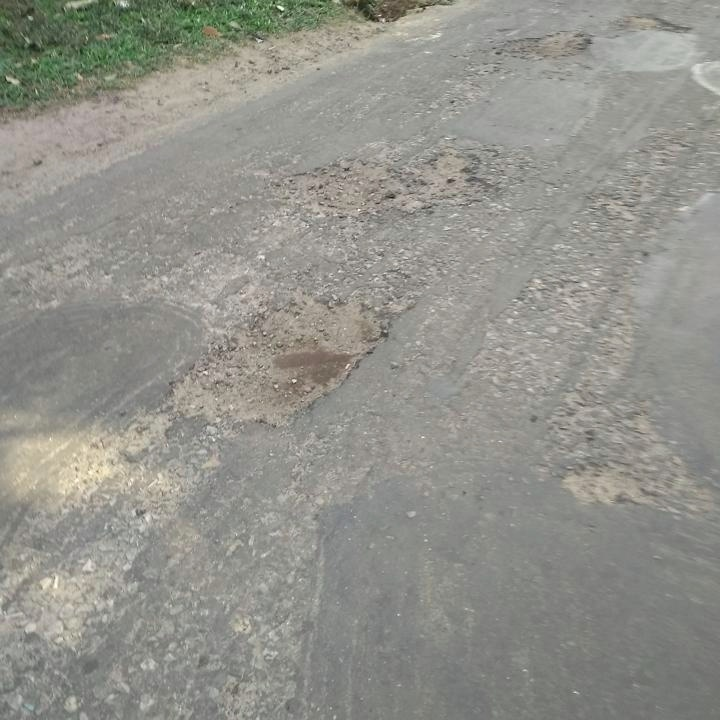pothole: (159, 286, 395, 431), (267, 148, 496, 217), (488, 26, 591, 64), (618, 10, 692, 38)
